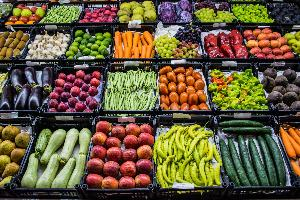apple: (90, 114, 158, 192), (246, 26, 300, 60)
bell_pepper: (154, 109, 222, 187), (204, 64, 270, 112), (202, 29, 248, 61), (235, 2, 271, 24)
carrot: (114, 29, 154, 62), (278, 125, 300, 180)
cucumber: (218, 118, 286, 186)
eggplant: (0, 64, 54, 112)
garlic: (24, 28, 76, 62)
grape: (157, 23, 202, 61), (195, 1, 233, 23)
kiwi: (0, 26, 34, 62)
lime: (67, 29, 111, 61)
peach: (49, 68, 104, 116), (80, 0, 118, 24)
pear: (0, 123, 30, 188), (116, 0, 156, 26)
tomato: (160, 64, 210, 110)
zucchini: (20, 123, 98, 190)
